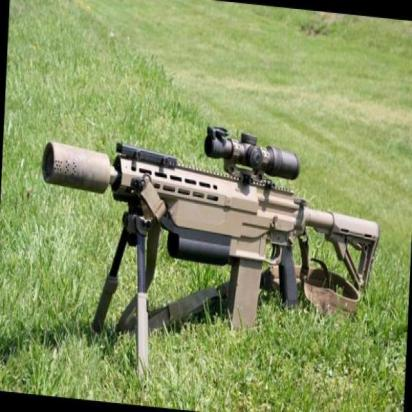Gun: (39, 123, 384, 310)
